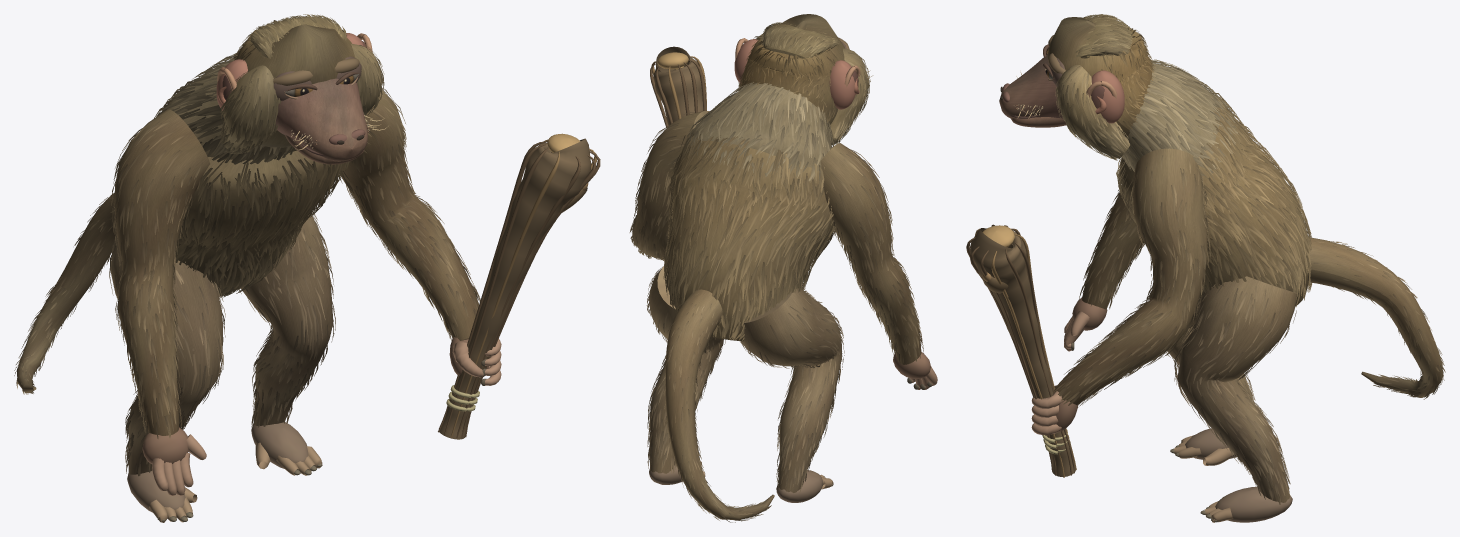
The model's file is ape.glb.
3 views of the same model, side by side, from view 1: azimuth 30°, elevation 25°; view 2: azimuth 150°, elevation 25°; view 3: azimuth 270°, elevation 25° (orthographic). The views are drawn at different scales.
Visible parts, largest first — view 1: body, arm_1, arm_-1, leg_1, leg_-1, tail; view 2: body, leg_-1, arm_-1, arm_1, tail, leg_1; view 3: body, arm_1, leg_1, tail, arm_-1, leg_-1.
Boxes of the visible parts, left/top/right/bottom form: body: left=154, top=14, right=388, bottom=297; arm_1: left=338, top=88, right=600, bottom=439; arm_-1: left=111, top=109, right=209, bottom=495; leg_1: left=239, top=212, right=335, bottom=475; leg_-1: left=109, top=235, right=225, bottom=522; tail: left=14, top=193, right=116, bottom=394; body: left=663, top=14, right=873, bottom=341; leg_-1: left=739, top=287, right=844, bottom=502; arm_-1: left=820, top=143, right=937, bottom=389; arm_1: left=629, top=46, right=708, bottom=261; tail: left=663, top=289, right=774, bottom=522; leg_1: left=646, top=266, right=725, bottom=484; body: left=999, top=14, right=1311, bottom=307; arm_1: left=966, top=148, right=1210, bottom=477; leg_1: left=1174, top=276, right=1297, bottom=522; tail: left=1308, top=237, right=1445, bottom=399; arm_-1: left=1064, top=188, right=1144, bottom=351; leg_-1: left=1146, top=286, right=1255, bottom=465.
Size of the model in its own units: 1.66 by 2.07 by 1.92.
9 materials, 2 textured.
